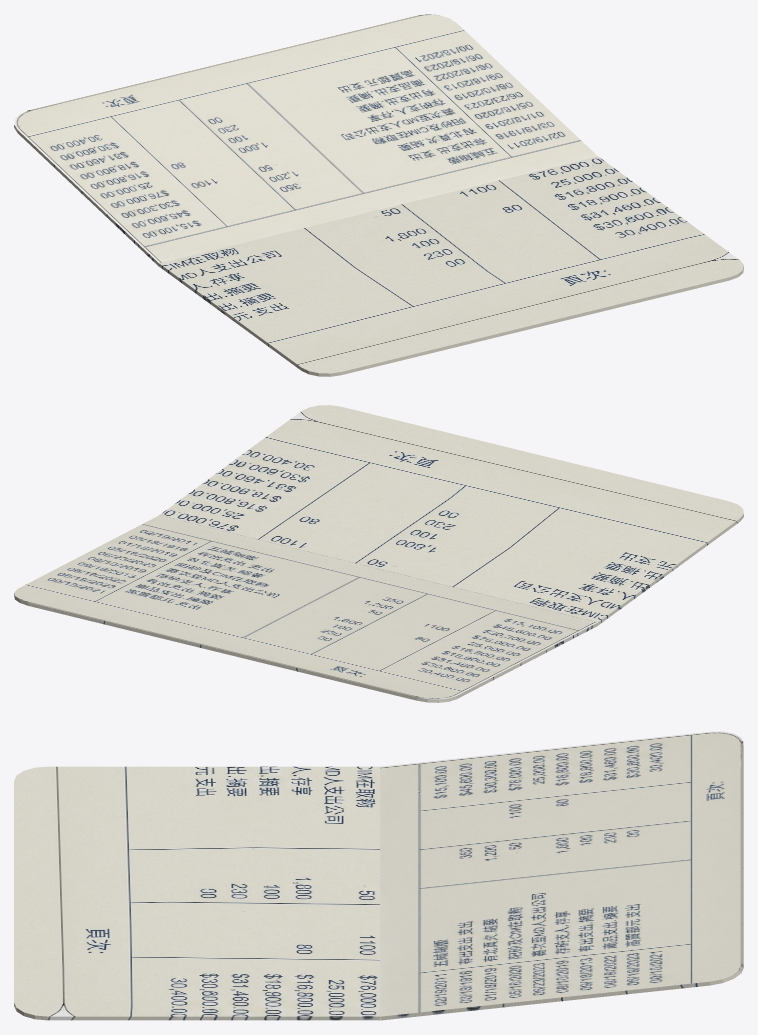
The model's file is passbook.fbx.
3 renders of one model, top to bottom at view 1: azimuth 30°, elevation 25°; view 2: azimuth 150°, elevation 25°; view 3: azimuth 270°, elevation 25°, orthographic. The views are drawn at different scales.
Parts seen in each view (by area): view 1: Cube; view 2: Cube; view 3: Cube.
Part boxes in pixels (x1=…): Cube: x1=14, y1=14, x2=743, y2=376; Cube: x1=14, y1=405, x2=743, y2=702; Cube: x1=14, y1=731, x2=743, y2=1020.
Bounding box in the file's own units: 13.9 × 1.1 × 17.15.
Materials: 2 (1 with a texture image).
